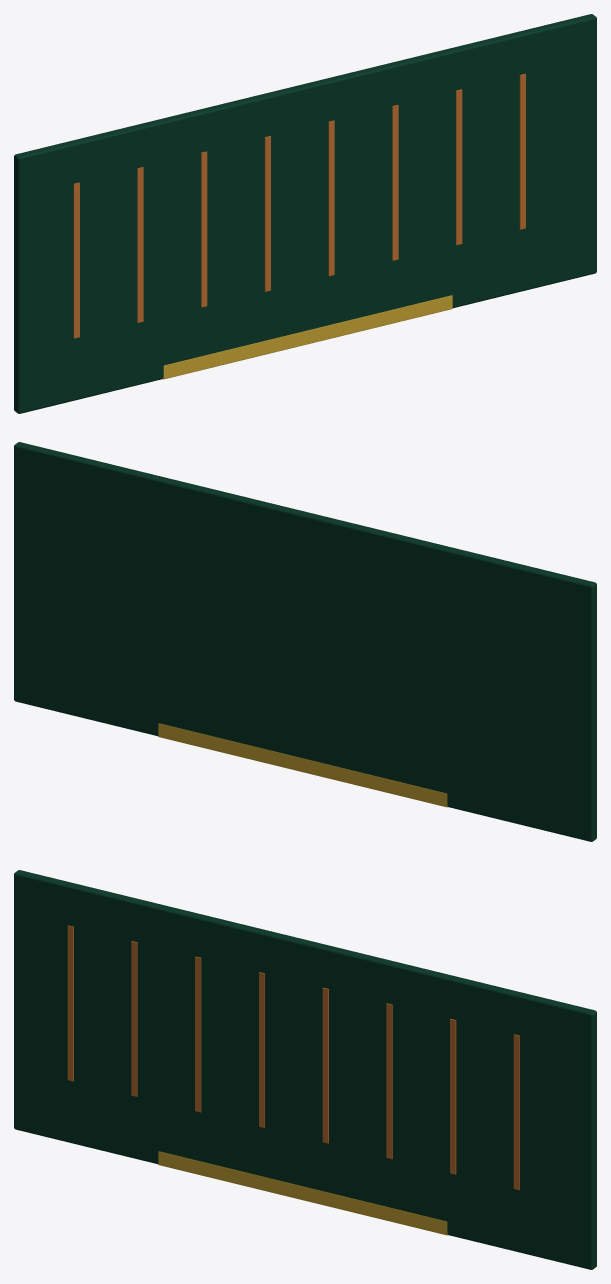
3 renders of one model, top to bottom at view 1: azimuth 30°, elevation 25°; view 2: azimuth 150°, elevation 25°; view 3: azimuth 330°, elevation 25°, orthographic.
Visible parts, largest first — view 1: part_052; view 2: part_052; view 3: part_052.
Part boxes in pixels (x1=…): part_052: x1=14, y1=14, x2=596, y2=413; part_052: x1=14, y1=442, x2=596, y2=841; part_052: x1=14, y1=870, x2=596, y2=1269.
Size of the model in its own units: 2.5 by 1.06 by 0.0444.
